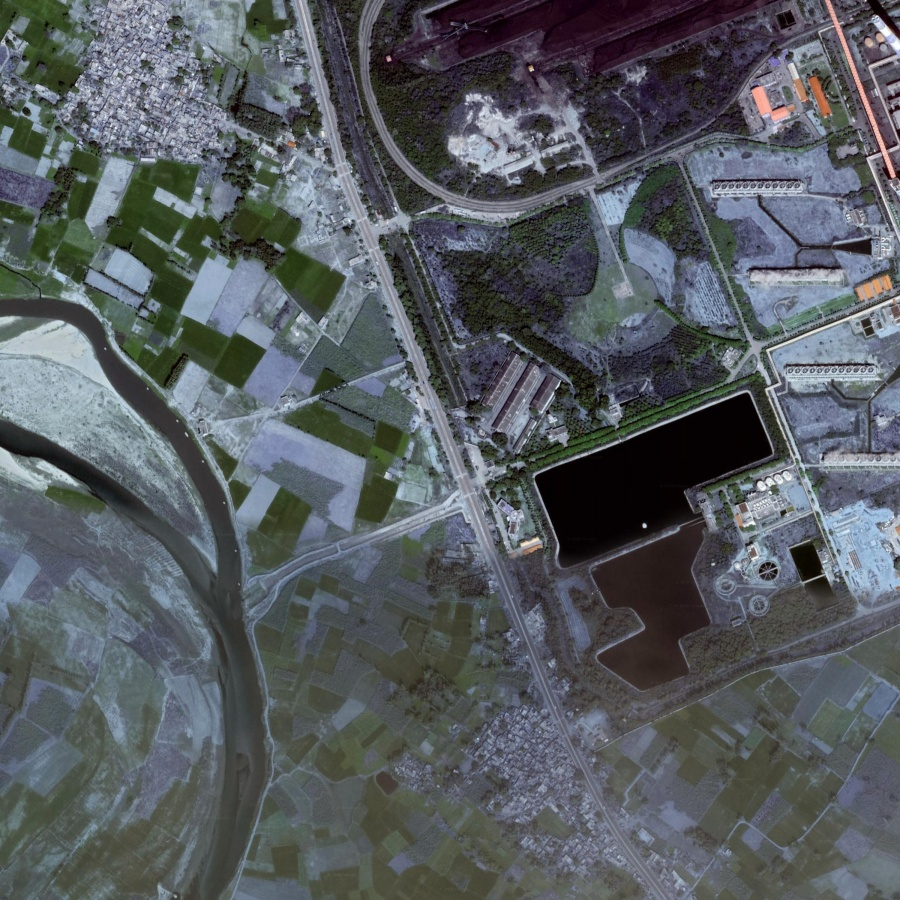PowerPlant: (514, 383, 784, 611)
